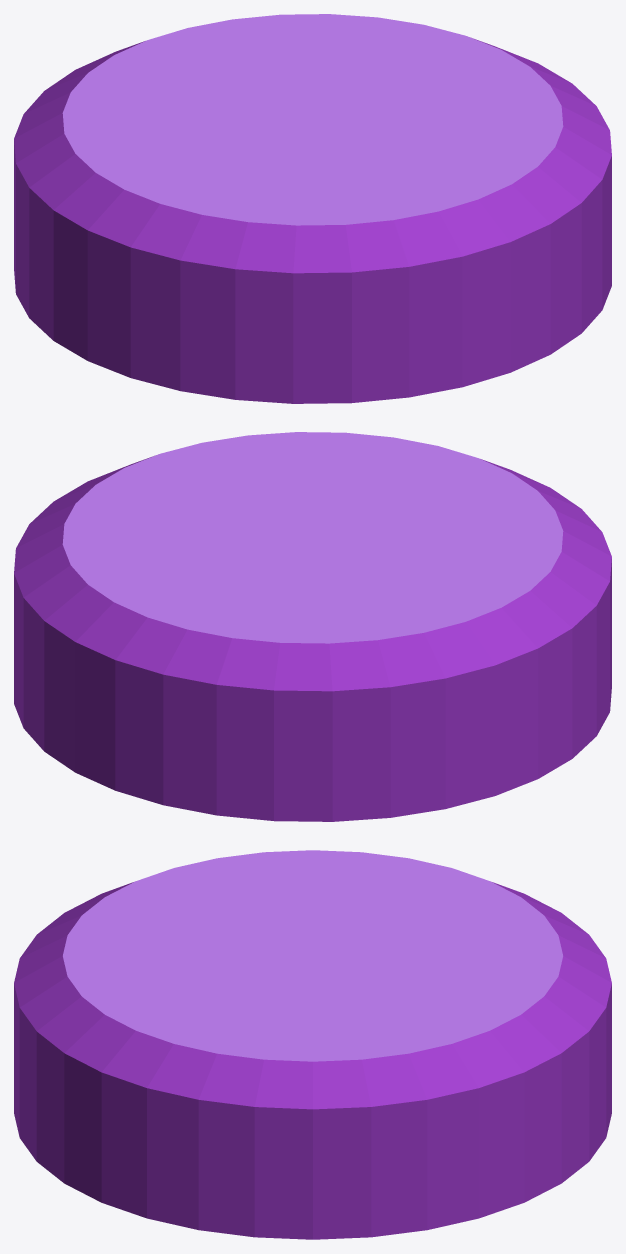
Rendered from purple_button.fbx.
The picture shows the model from 3 angles, top to bottom: view 1: azimuth 30°, elevation 25°; view 2: azimuth 150°, elevation 25°; view 3: azimuth 270°, elevation 25°; orthographic projection.
Parts seen in each view (by area): view 1: Circle.002; view 2: Circle.002; view 3: Circle.002.
Part boxes in pixels (x1=…): Circle.002: x1=14, y1=14, x2=611, y2=403; Circle.002: x1=14, y1=432, x2=611, y2=821; Circle.002: x1=14, y1=850, x2=611, y2=1239.
Bounding box in the file's own units: 76.32 × 22.18 × 76.32.
